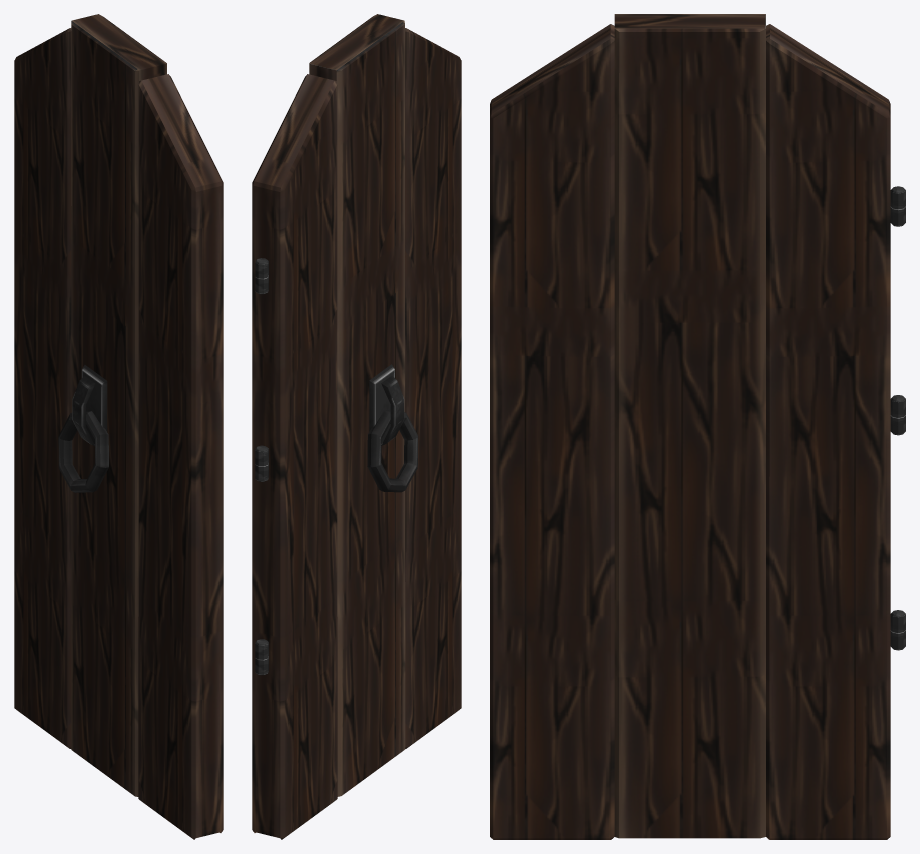
The model's file is SM_door.fbx.
The picture shows the model from 3 angles, left to right: view 1: azimuth 30°, elevation 25°; view 2: azimuth 150°, elevation 25°; view 3: azimuth 270°, elevation 25°; orthographic projection. The views are drawn at different scales.
Visible parts, largest first — view 1: SM_door; view 2: SM_door; view 3: SM_door.
Boxes of the visible parts, x1,y1,x2,y2 form: SM_door: (14,14,223,839); SM_door: (252,14,461,839); SM_door: (490,14,905,839).
Bounding box in the file's own units: 0.4494 × 4.83 × 2.24.
